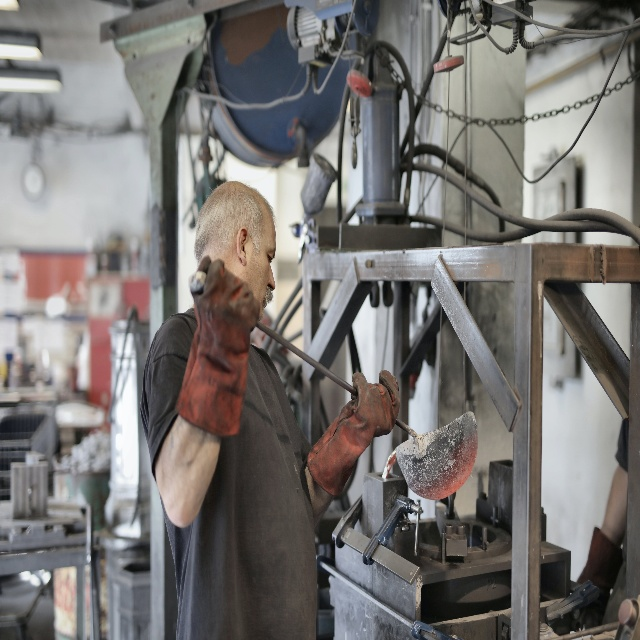Guantes: (176, 255, 261, 438), (306, 370, 399, 497), (575, 526, 624, 628)
